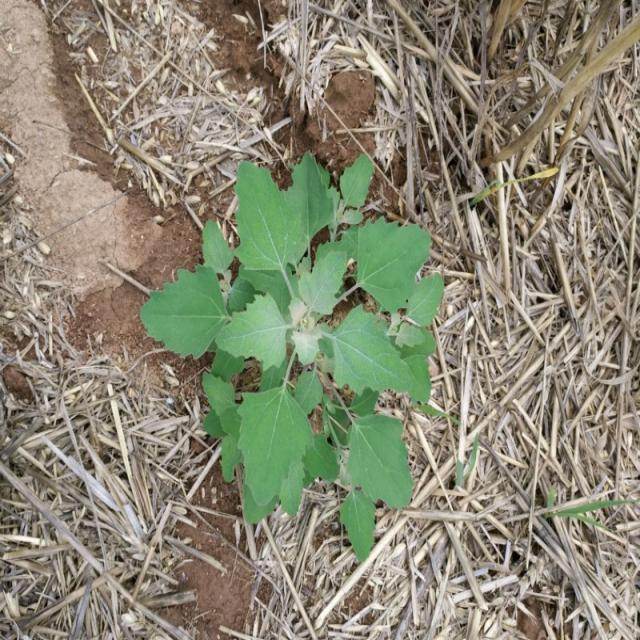ca: (142, 157, 444, 560)
